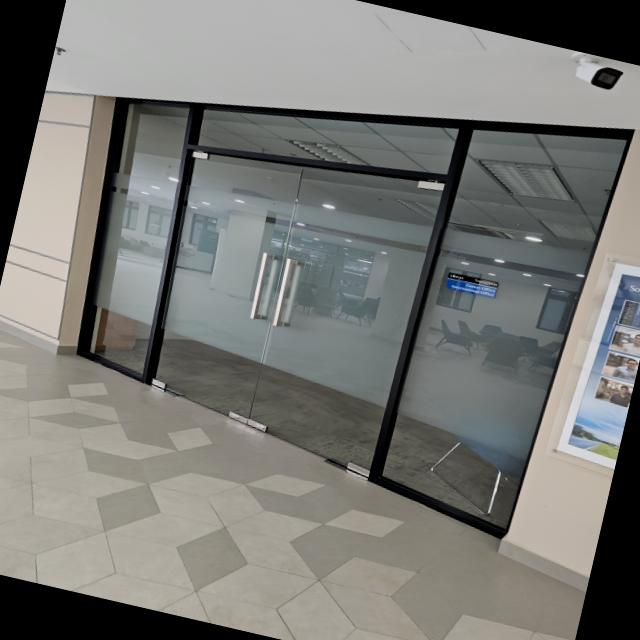footpath: (0, 409, 443, 640)
